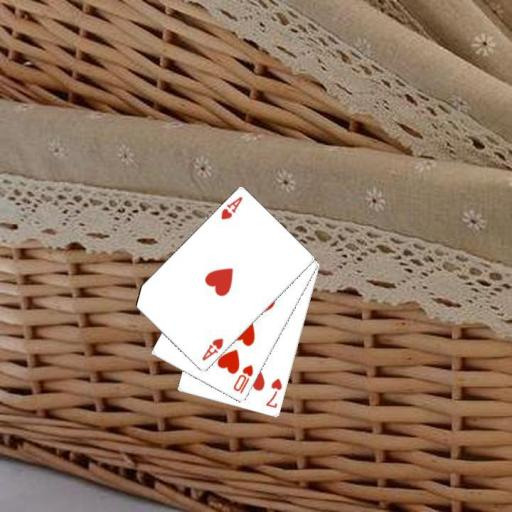10H: (231, 362, 255, 395)
7H: (262, 376, 284, 410)
AH: (198, 335, 225, 363), (218, 194, 244, 221)
